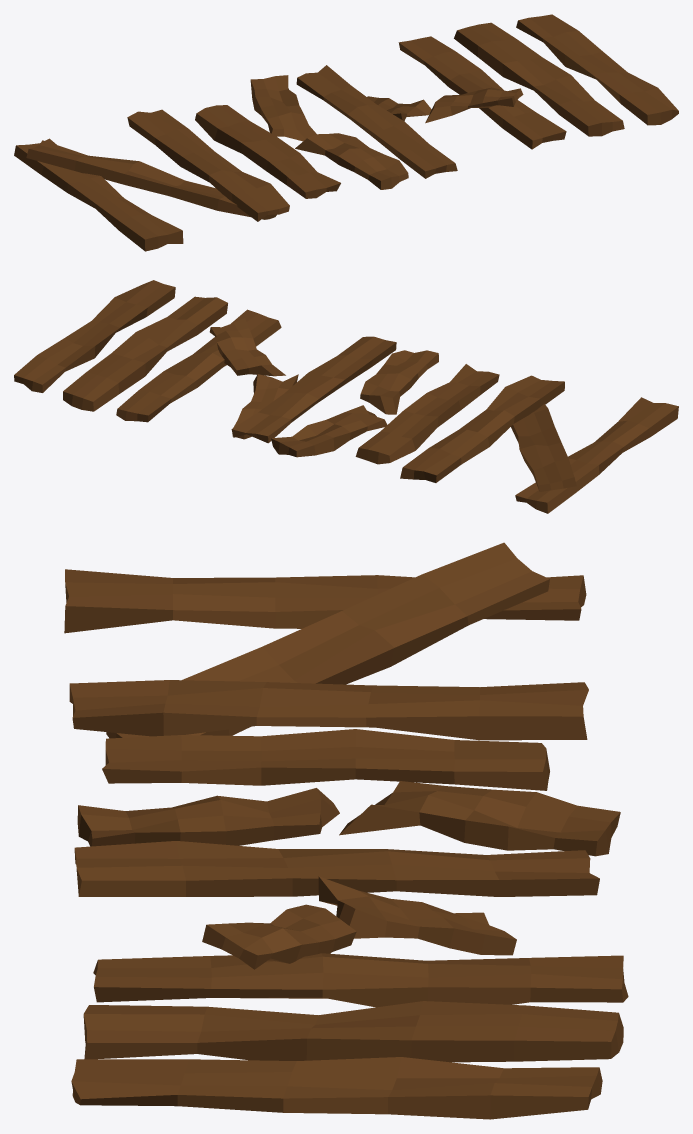
File: PathBoardsBroken.fbx
3 renders of one model, top to bottom at view 1: azimuth 30°, elevation 25°; view 2: azimuth 150°, elevation 25°; view 3: azimuth 270°, elevation 25°, orthographic. The views are drawn at different scales.
Visible parts, largest first — view 1: PathBoardsBroken; view 2: PathBoardsBroken; view 3: PathBoardsBroken.
Boxes of the visible parts, x1=… form: PathBoardsBroken: x1=14, y1=14, x2=678, y2=251; PathBoardsBroken: x1=14, y1=280, x2=678, y2=513; PathBoardsBroken: x1=64, y1=542, x2=628, y2=1119.
Bounding box in the file's own units: 562 × 48.26 × 252.
